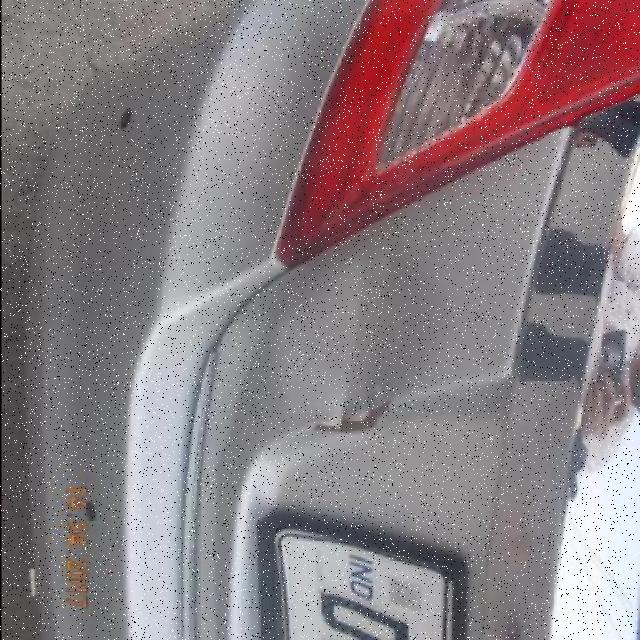damage: (274, 246, 426, 427)
